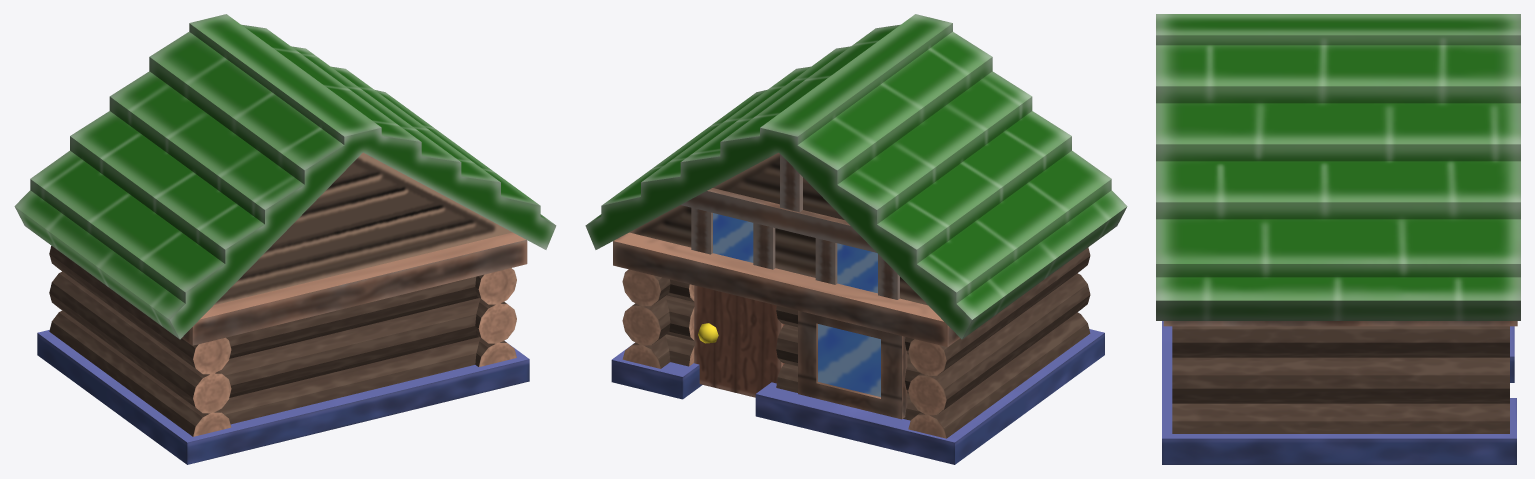
The model's file is Cabin 1.fbx.
The picture shows the model from 3 angles, left to right: view 1: azimuth 30°, elevation 25°; view 2: azimuth 150°, elevation 25°; view 3: azimuth 270°, elevation 25°; orthographic projection. The views are drawn at different scales.
Parts seen in each view (by area): view 1: Roof.003, Wall Back, Top of House, Wall Right, Base, Plank, Wall Left; view 2: Roof.003, Wall Right, Base, Plank, Door, Top of House, Window Frame, Wall Front, Plank.003, Wall Left, Window Bottom, Window Top Right (+6 smaller); view 3: Roof.003, Wall Left, Base, Plank.
Boxes of the visible parts, x1=… form: Roof.003: x1=14, y1=14, x2=556, y2=339; Wall Back: x1=219, y1=276, x2=480, y2=424; Top of House: x1=214, y1=152, x2=512, y2=305; Wall Right: x1=49, y1=246, x2=231, y2=436; Base: x1=37, y1=330, x2=529, y2=464; Plank: x1=182, y1=232, x2=527, y2=345; Wall Left: x1=475, y1=268, x2=516, y2=366; Roof.003: x1=585, y1=14, x2=1127, y2=339; Wall Right: x1=908, y1=247, x2=1090, y2=438; Base: x1=611, y1=329, x2=1104, y2=464; Plank: x1=613, y1=232, x2=959, y2=346; Door: x1=694, y1=285, x2=784, y2=397; Top of House: x1=629, y1=152, x2=927, y2=305; Window Frame: x1=798, y1=310, x2=907, y2=419; Wall Front: x1=665, y1=279, x2=920, y2=420; Plank.003: x1=681, y1=188, x2=876, y2=252; Wall Left: x1=622, y1=269, x2=670, y2=368; Window Bottom: x1=818, y1=324, x2=880, y2=396; Window Top Right: x1=837, y1=243, x2=877, y2=293; Roof.003: x1=1156, y1=14, x2=1520, y2=320; Wall Left: x1=1172, y1=326, x2=1509, y2=433; Base: x1=1162, y1=321, x2=1516, y2=464; Plank: x1=1163, y1=321, x2=1517, y2=326.
Bounding box in the file's own units: 621 × 449 × 432.
